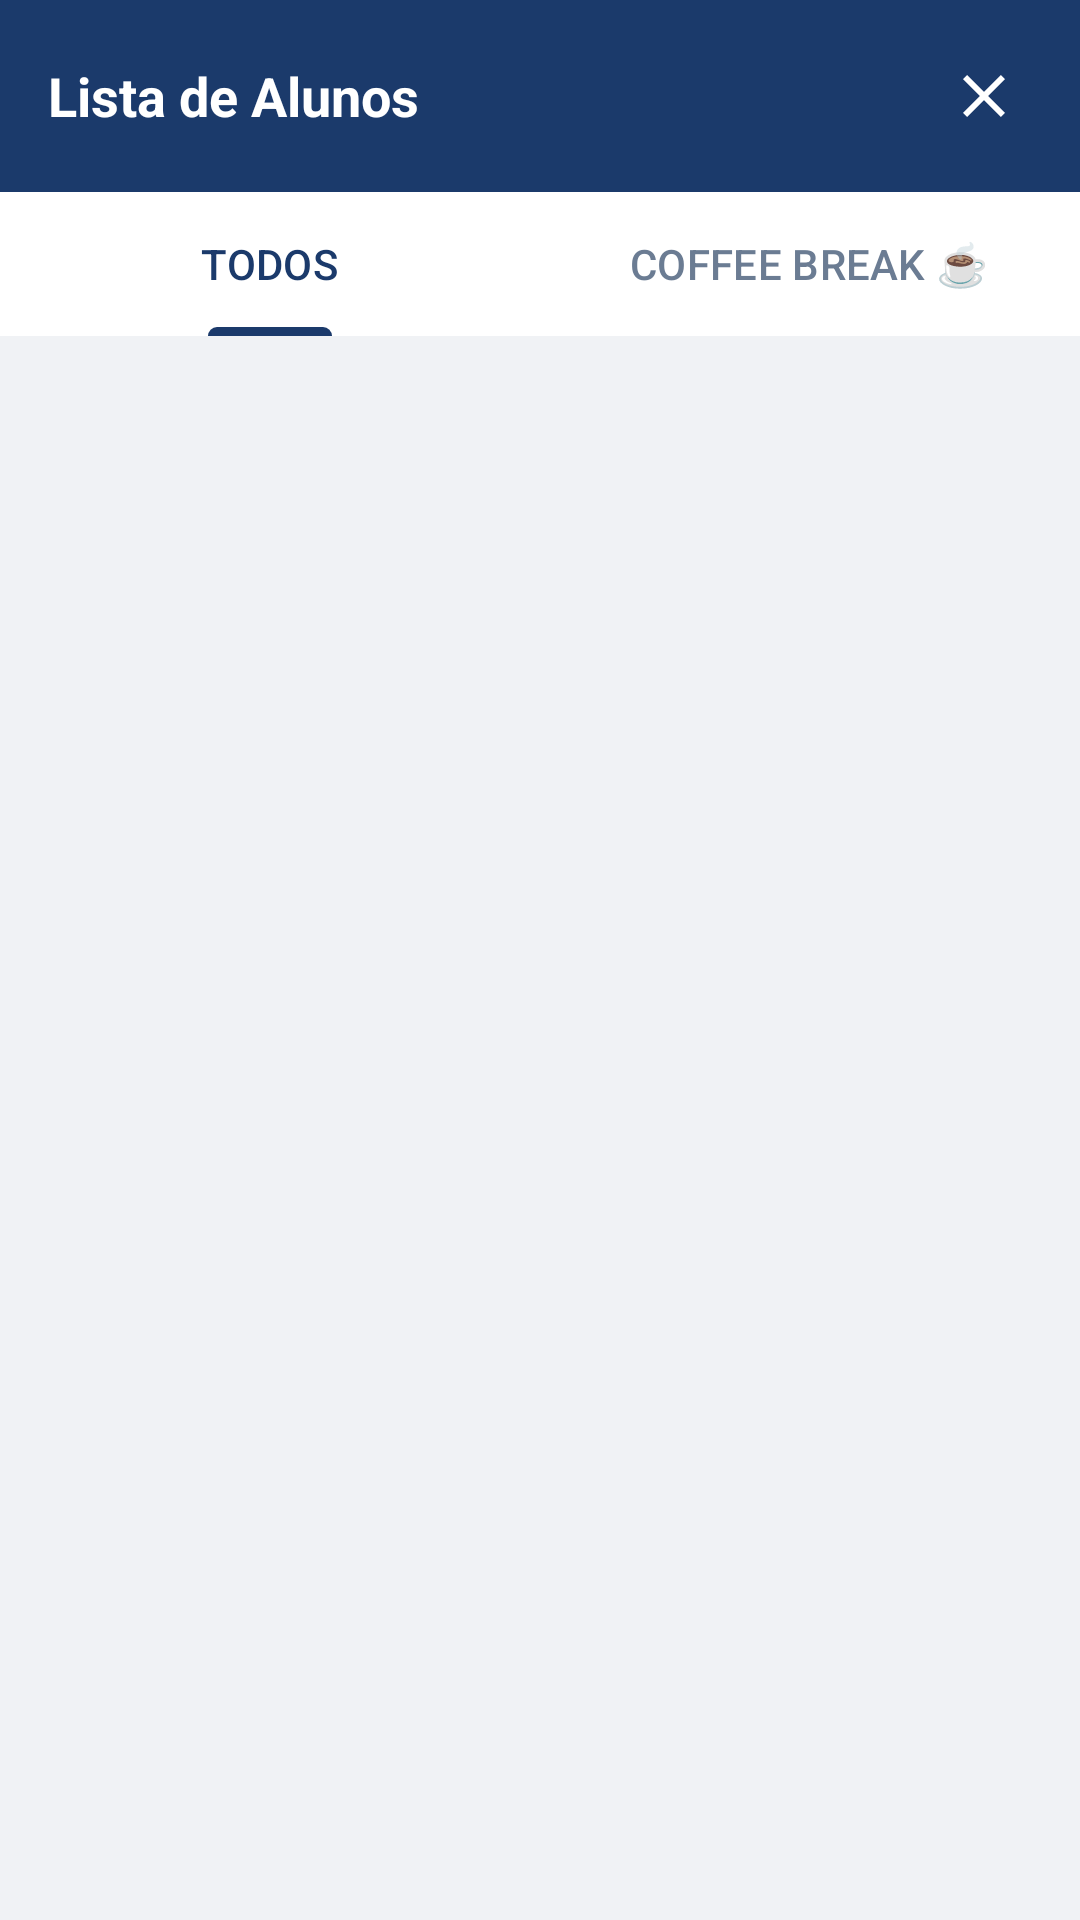

Point at icon controls on the screen. Image size 1080 x 1920, points as point (x, y).
close: point (984, 96)
